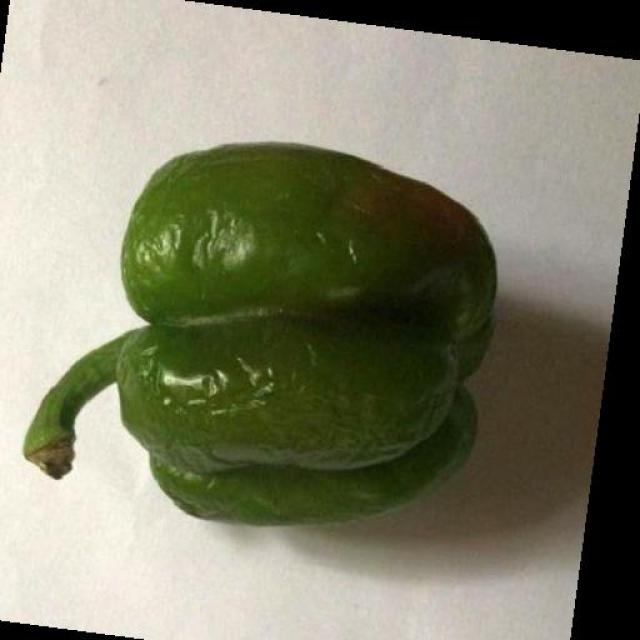Stale_Capsicum: (103, 125, 520, 548)
